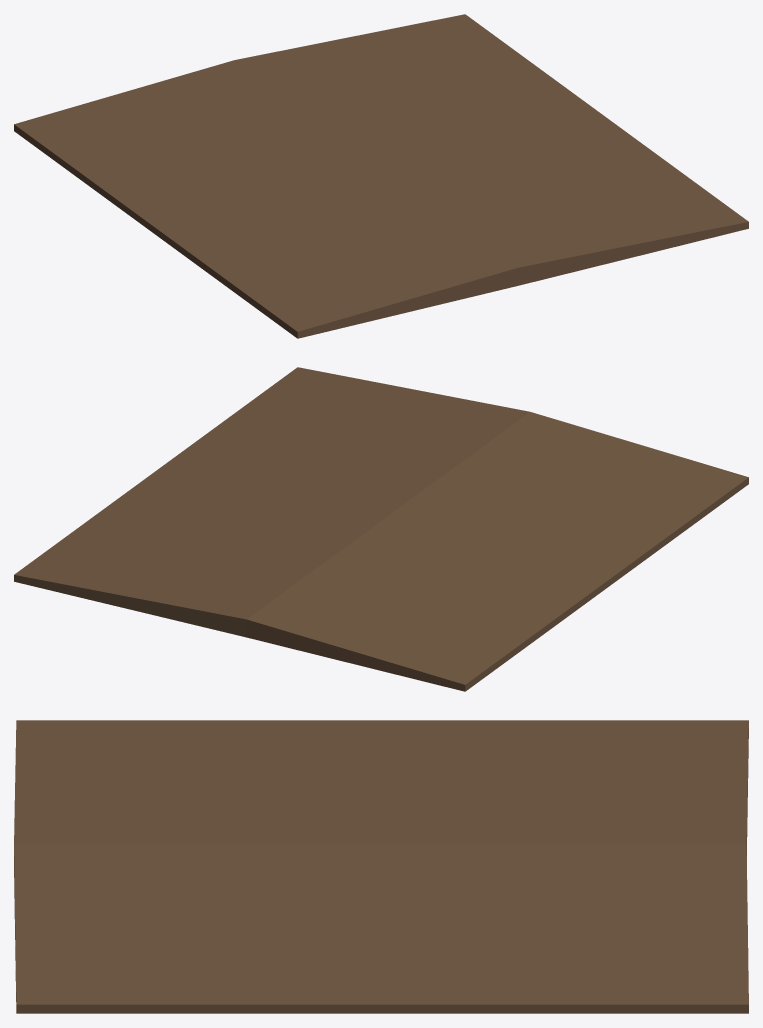
File: Wood_Base.fbx
The picture shows the model from 3 angles, top to bottom: view 1: azimuth 30°, elevation 25°; view 2: azimuth 150°, elevation 25°; view 3: azimuth 270°, elevation 25°; orthographic projection. The views are drawn at different scales.
Parts seen in each view (by area): view 1: Wood_Base; view 2: Wood_Base; view 3: Wood_Base.
Part boxes in pixels (x1,y1,x2,y2): Wood_Base: [14, 14, 748, 338]; Wood_Base: [14, 367, 748, 691]; Wood_Base: [14, 720, 748, 1013].
Bounding box in the file's own units: 2.19 × 0.084 × 2.39.
